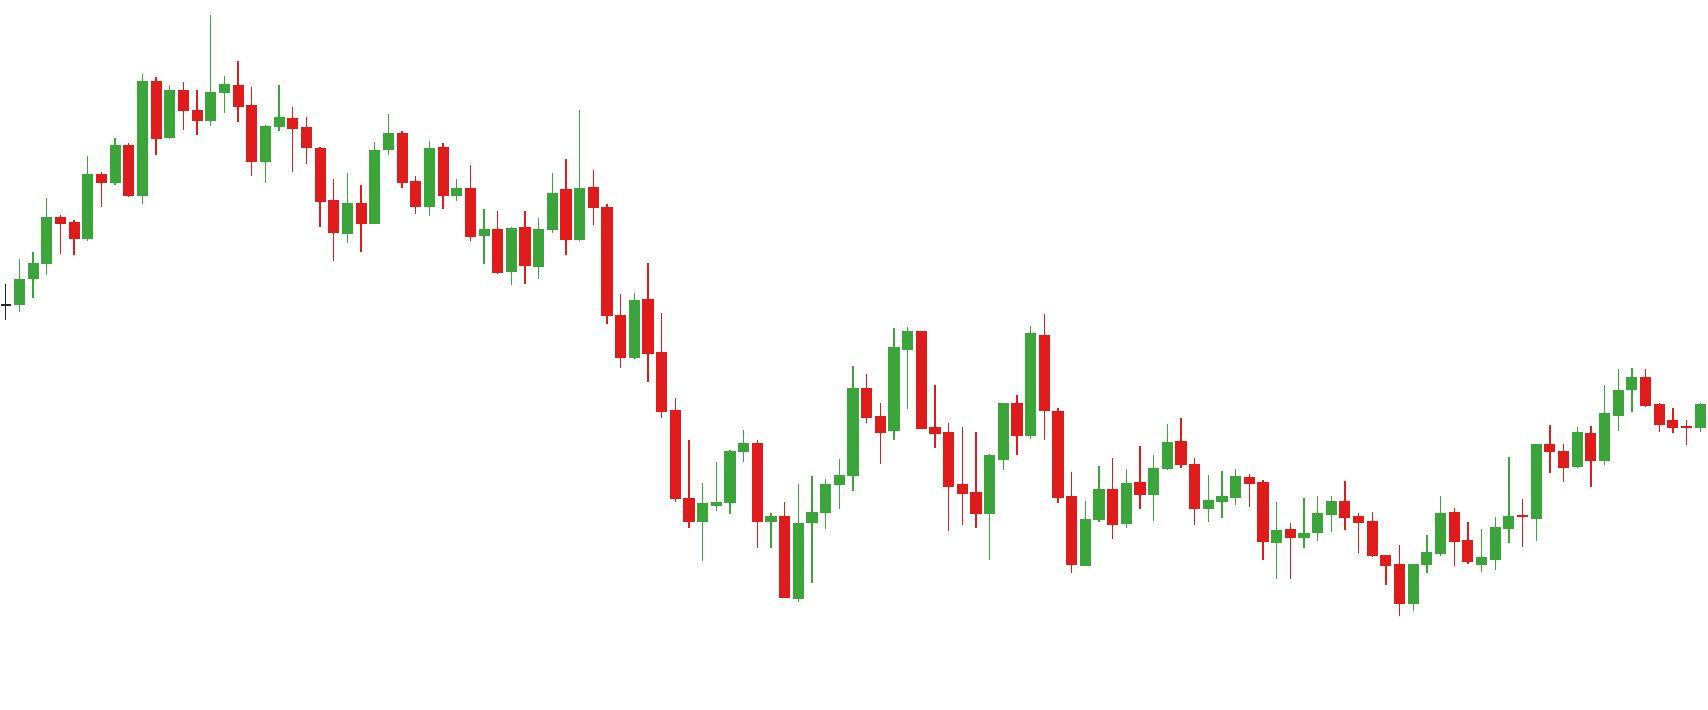buy: (1269, 519, 1422, 614)
